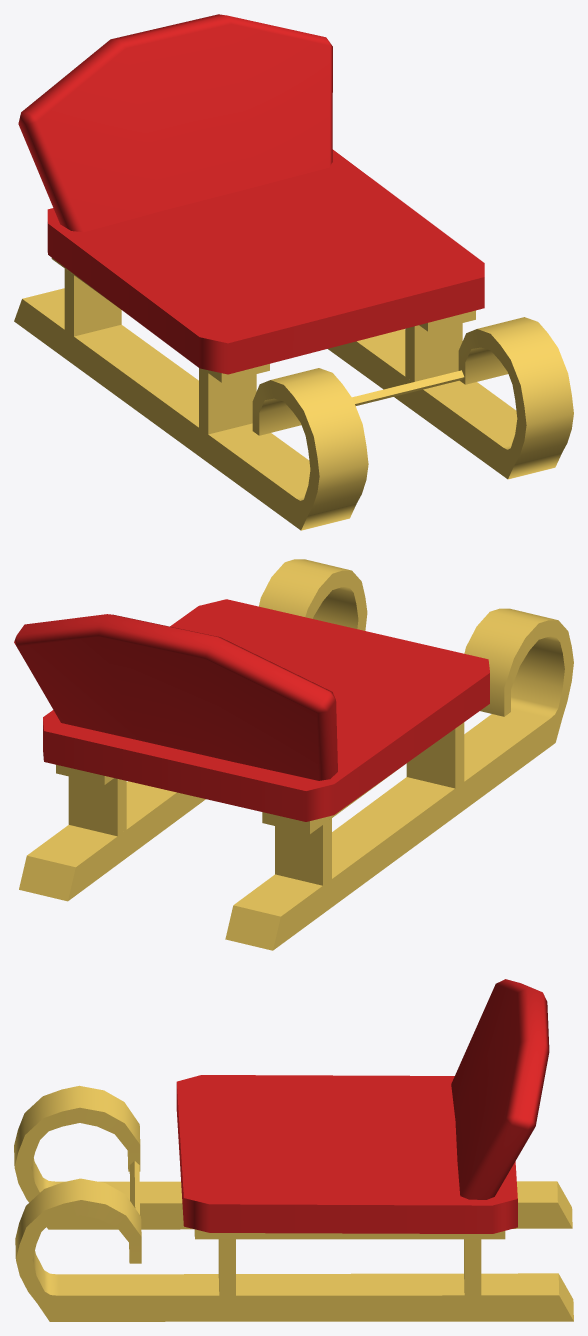
The model's file is Christmas_Sleigh_2_231109.glb.
3 renders of one model, top to bottom at view 1: azimuth 30°, elevation 25°; view 2: azimuth 150°, elevation 25°; view 3: azimuth 270°, elevation 25°, orthographic. The views are drawn at different scales.
Parts seen in each view (by area): view 1: Sleigh_2; view 2: Sleigh_2; view 3: Sleigh_2.
Part boxes in pixels (x1,y1,x2,y2): Sleigh_2: [14, 14, 573, 530]; Sleigh_2: [14, 559, 573, 950]; Sleigh_2: [14, 979, 573, 1321].
Size of the model in its own units: 1.42 by 1.21 by 2.41.
Materials: 1 (1 with a texture image).
